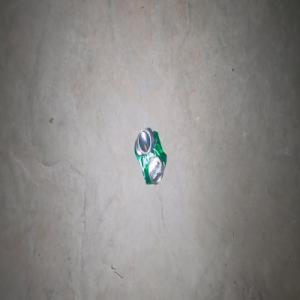SodaCan: (134, 126, 166, 184)
